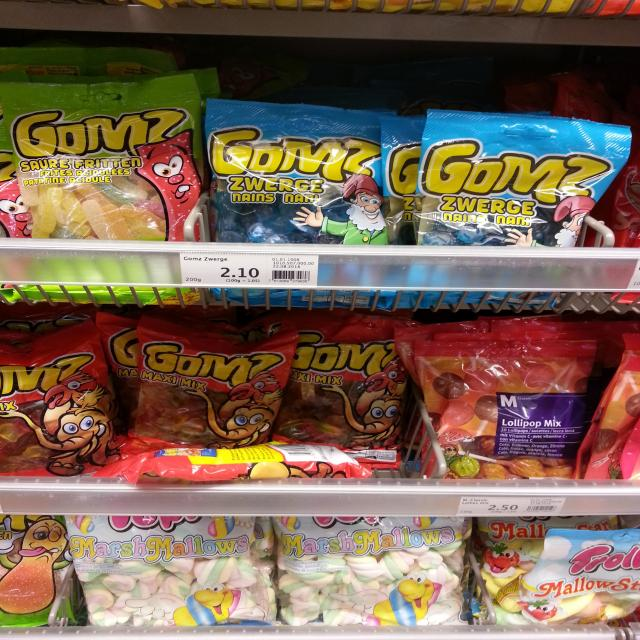Bombons: (0, 71, 200, 301), (408, 109, 633, 306), (205, 97, 388, 302), (410, 338, 595, 478), (64, 512, 280, 622), (133, 315, 297, 448), (278, 516, 464, 624), (0, 320, 119, 476), (282, 322, 403, 453), (493, 530, 640, 624)
